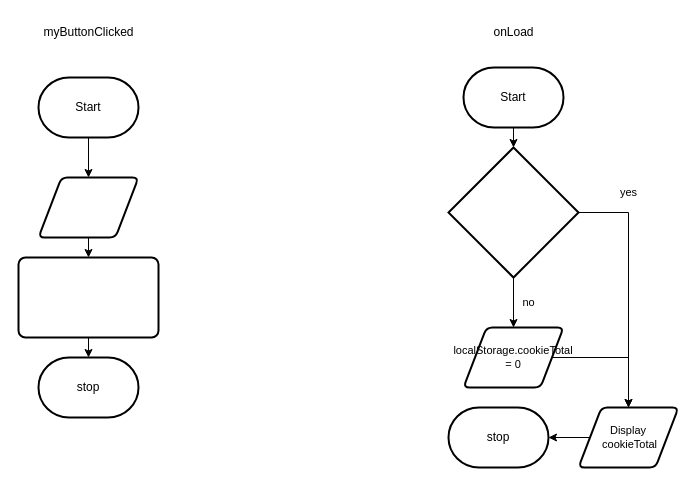
Some shapes in this 696 by 485 pixel diagram are drawn without their labels. Here are the shapes that lost their labels. From the top down, the centre of each, then its label:
At (x=88, y=207): "buttonClicked".
At (x=513, y=212): "if localStorage.cookietotal exists".
At (x=88, y=297): "localStorage.cookieTotal ++".
